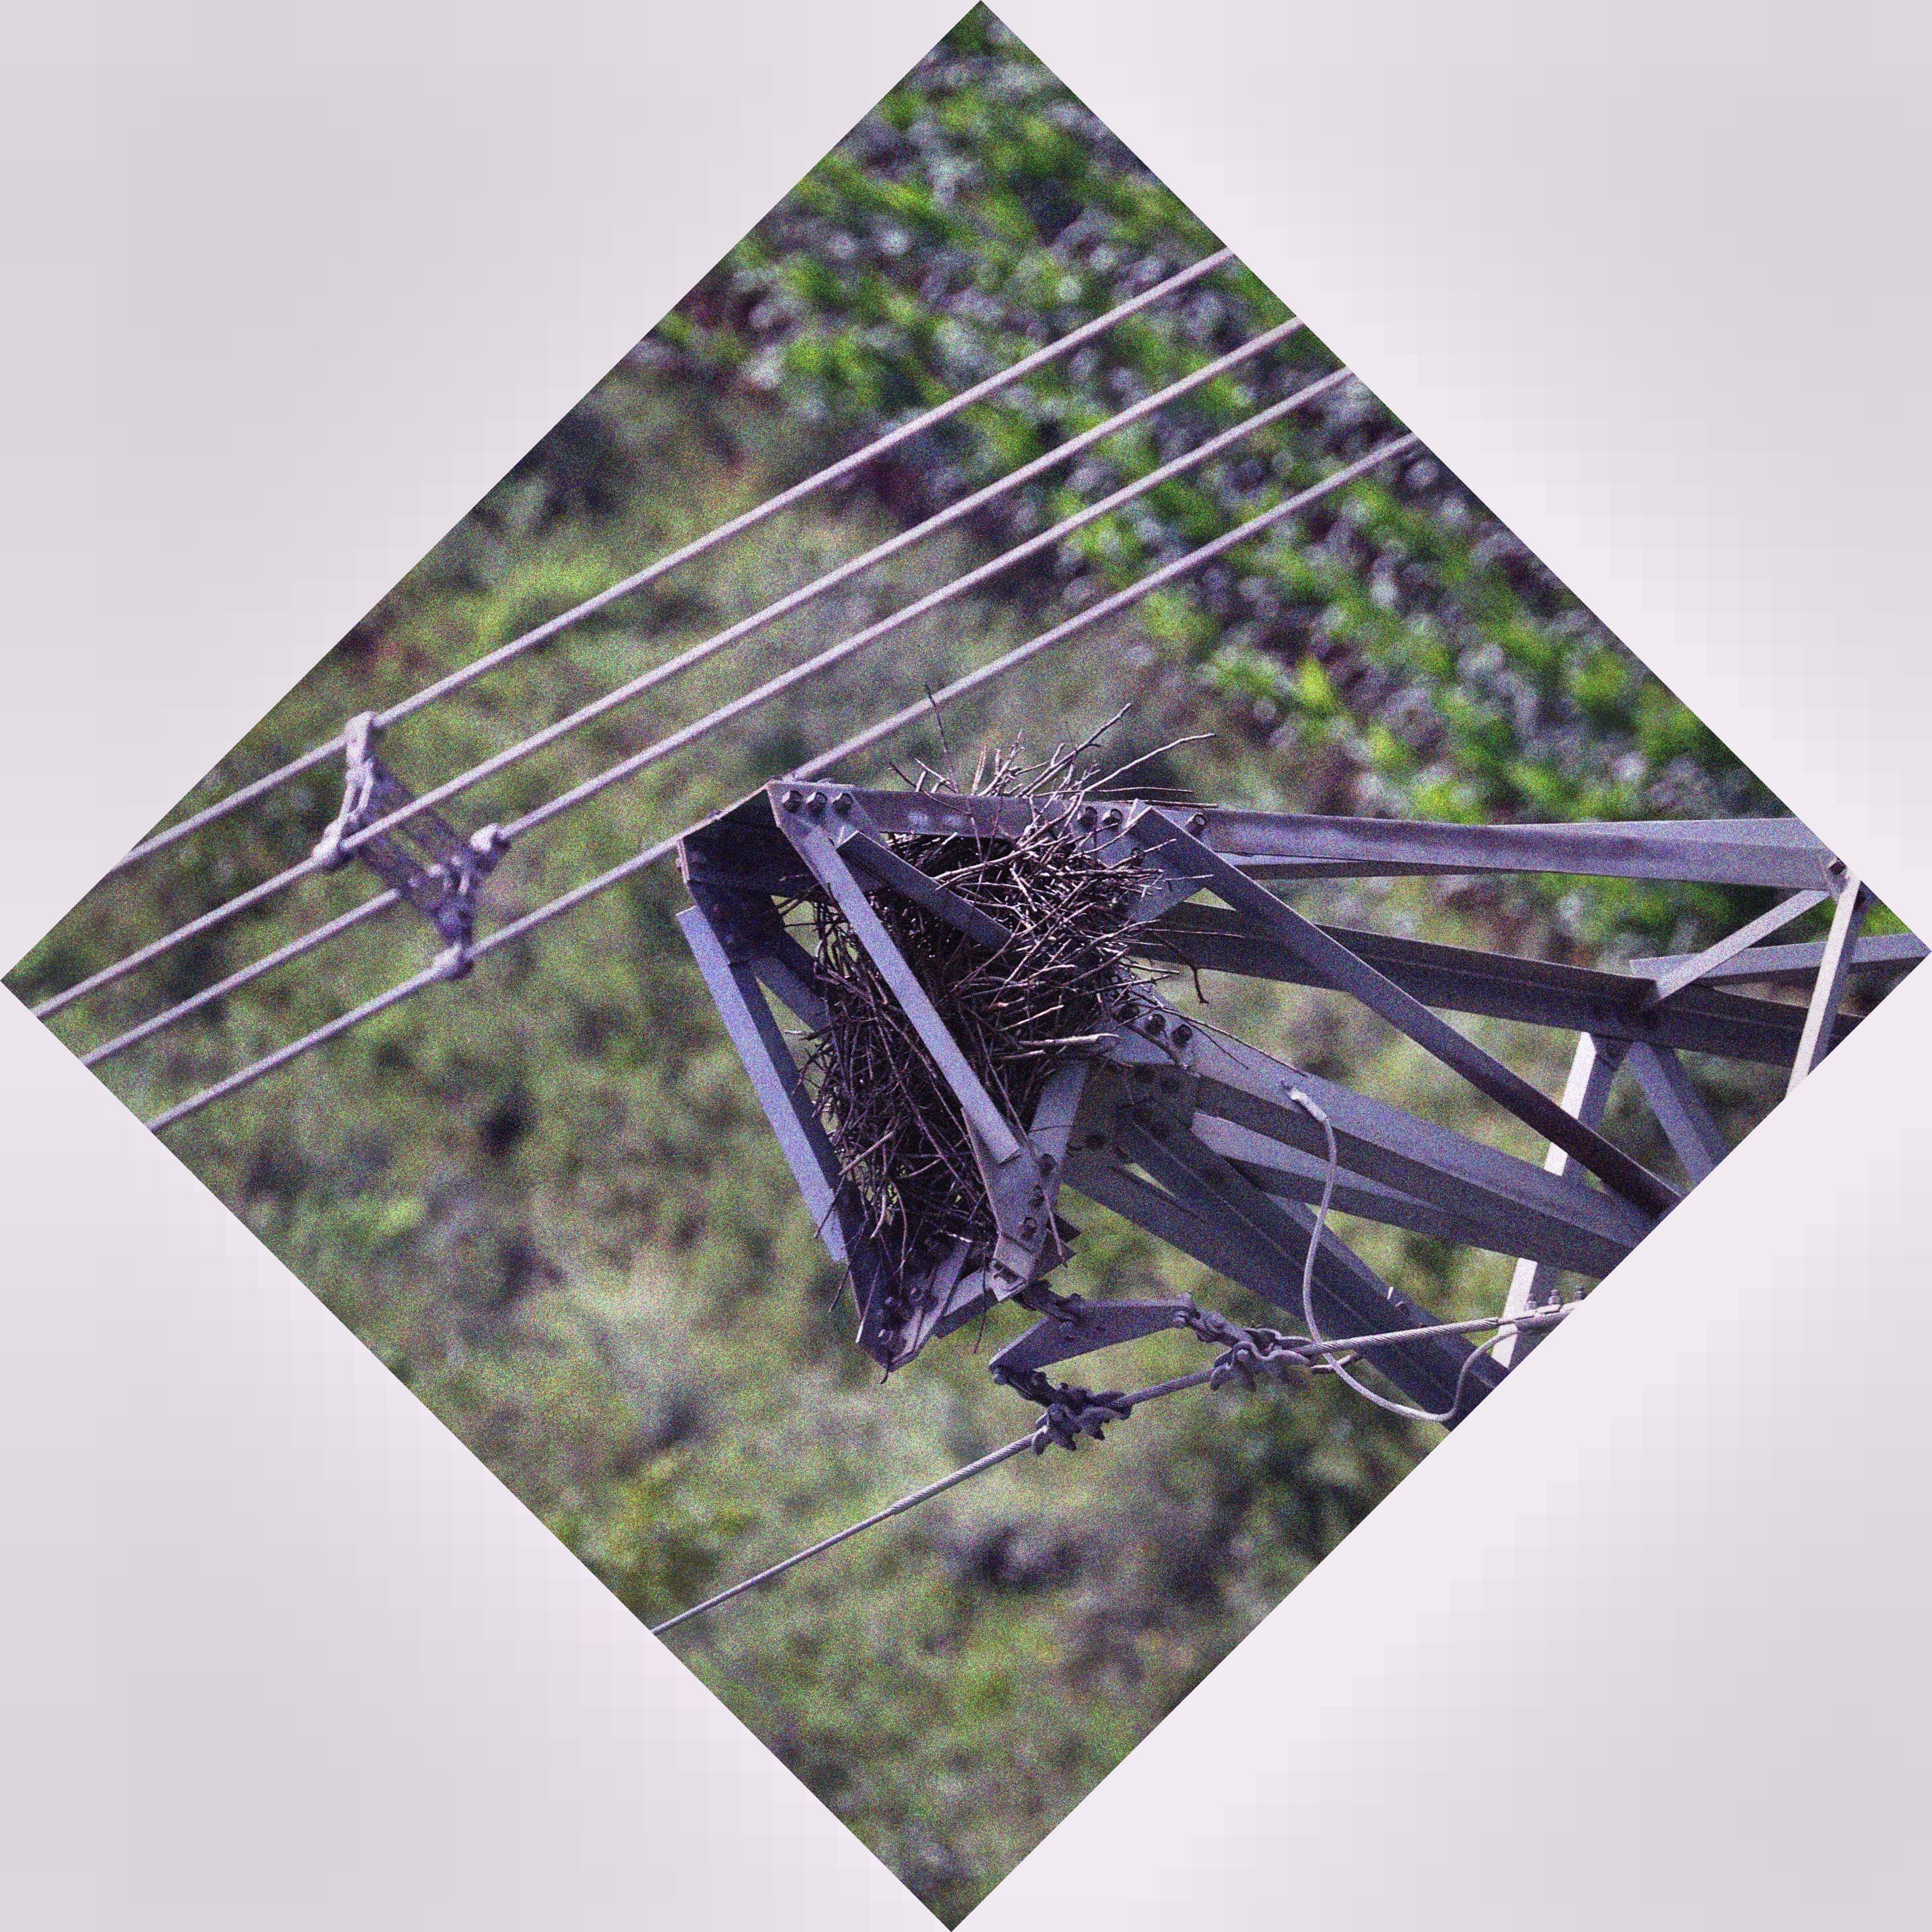niaowo: (709, 706, 1196, 1263)
